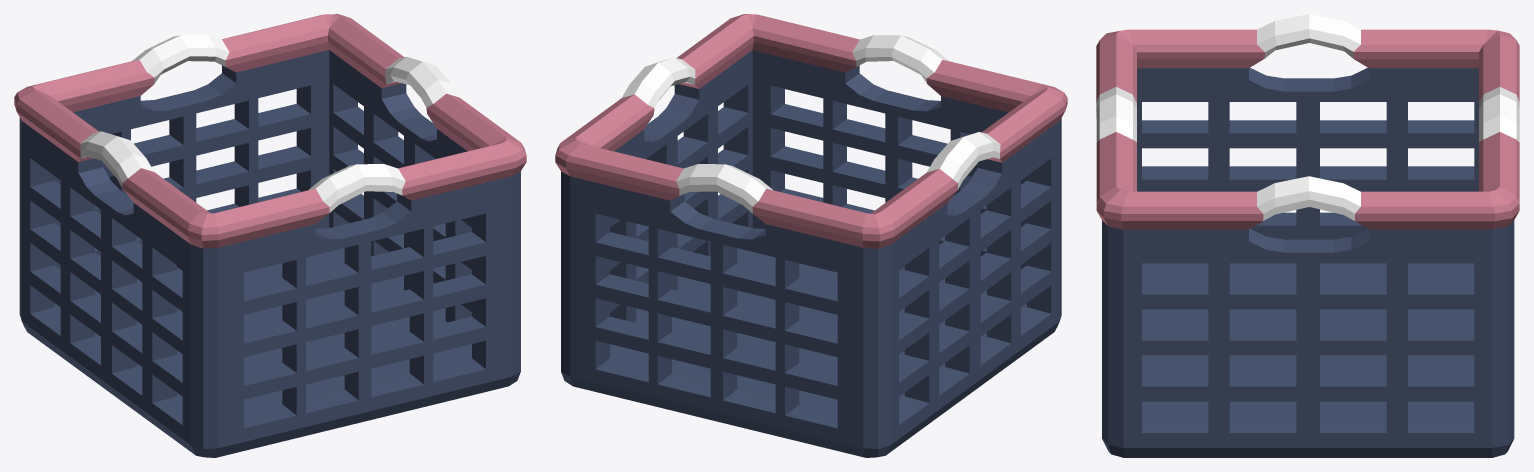
Rendered from SM_Basket_01.glb.
The picture shows the model from 3 angles, left to right: view 1: azimuth 30°, elevation 25°; view 2: azimuth 150°, elevation 25°; view 3: azimuth 270°, elevation 25°; orthographic projection. The views are drawn at different scales.
Parts seen in each view (by area): view 1: SM_Basket_01; view 2: SM_Basket_01; view 3: SM_Basket_01.
Part boxes in pixels (x1,y1,x2,y2): SM_Basket_01: [14, 14, 526, 457]; SM_Basket_01: [555, 14, 1067, 457]; SM_Basket_01: [1096, 14, 1519, 457].
Bounding box in the file's own units: 0.5016 × 0.3712 × 0.5014.
1 material, 1 textured.
